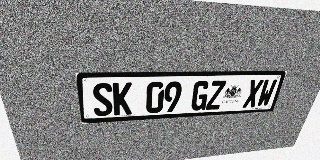0: (146, 82, 165, 113)
9: (163, 81, 183, 112)
G: (190, 81, 211, 111)
K: (113, 82, 132, 115)
S: (92, 83, 113, 116)
W: (256, 79, 278, 107)
X: (242, 79, 264, 108)
Z: (205, 80, 226, 110)
